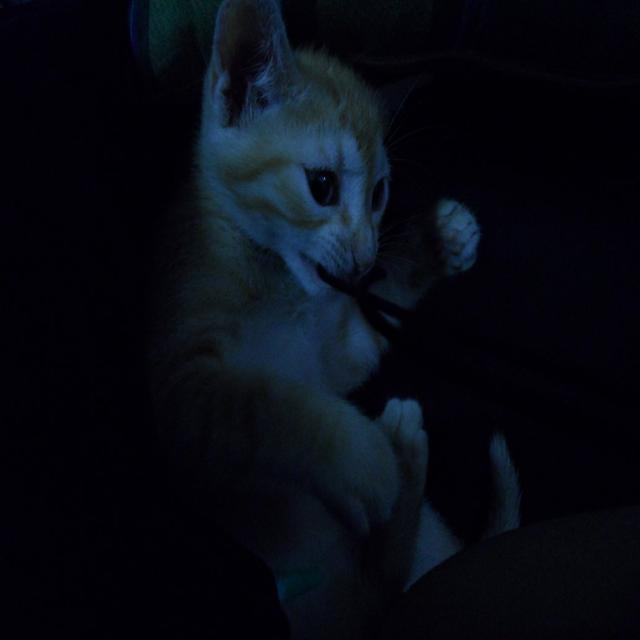Cat: (172, 0, 544, 621)
